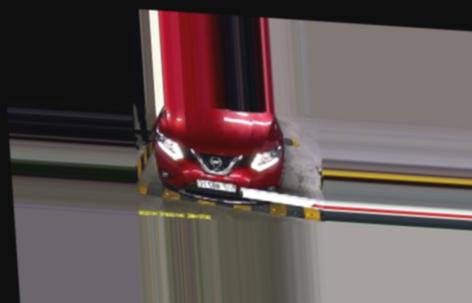License_Plate: (193, 178, 239, 193)
